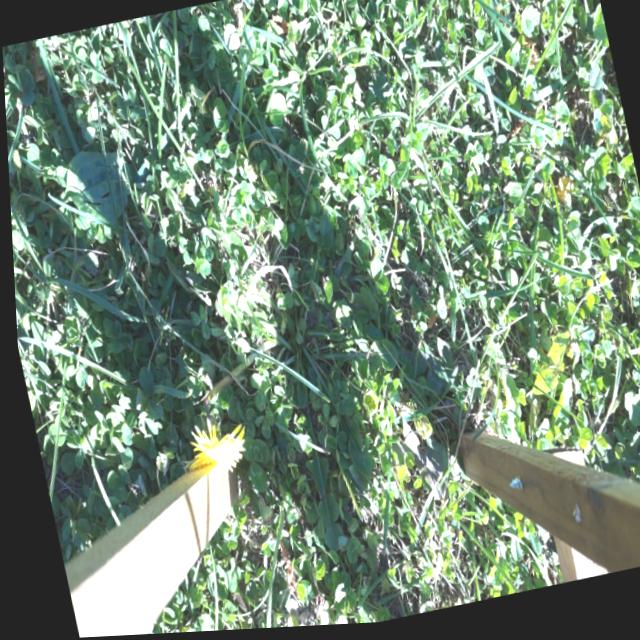base: (274, 323, 302, 361)
flower: (183, 420, 245, 480)
